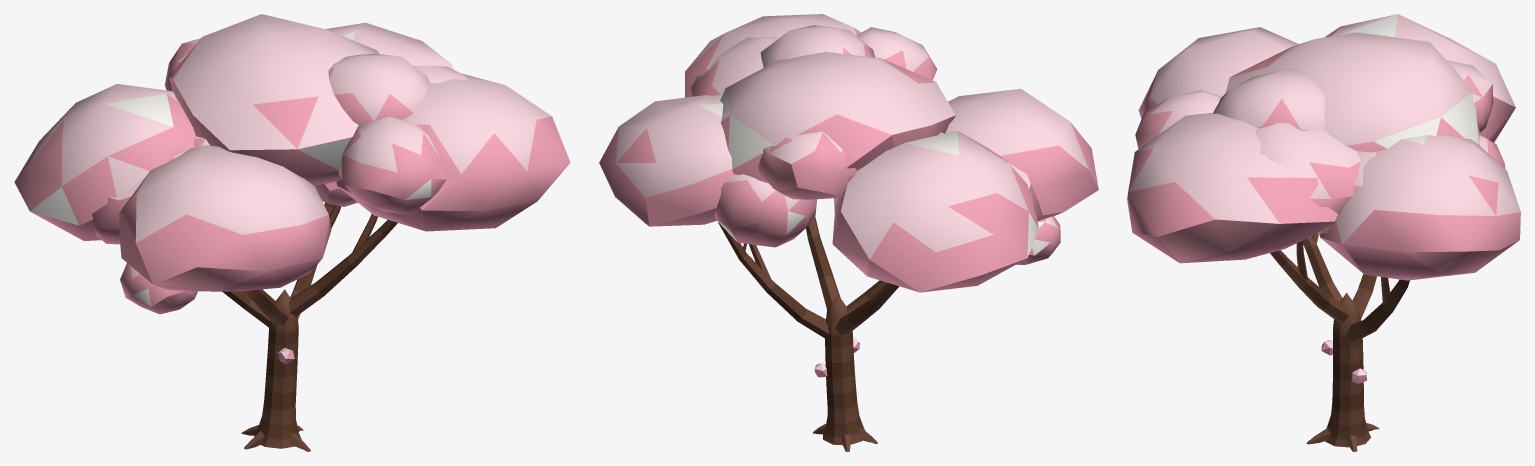
The model's file is SC_Nat_Cherry_Blossom_Small.gltf.
3 renders of one model, left to right at view 1: azimuth 30°, elevation 25°; view 2: azimuth 150°, elevation 25°; view 3: azimuth 270°, elevation 25°, orthographic. The views are drawn at different scales.
Visible parts, largest first — view 1: SC_Nat_Cherry_Blossom_Small; view 2: SC_Nat_Cherry_Blossom_Small; view 3: SC_Nat_Cherry_Blossom_Small.
Part boxes in pixels (left/top/right/bottom): SC_Nat_Cherry_Blossom_Small: left=14, top=14, right=570, bottom=451; SC_Nat_Cherry_Blossom_Small: left=599, top=14, right=1098, bottom=451; SC_Nat_Cherry_Blossom_Small: left=1127, top=14, right=1520, bottom=451.
Size of the model in its own units: 4.66 by 4.09 by 3.71.
1 material, 1 textured.
